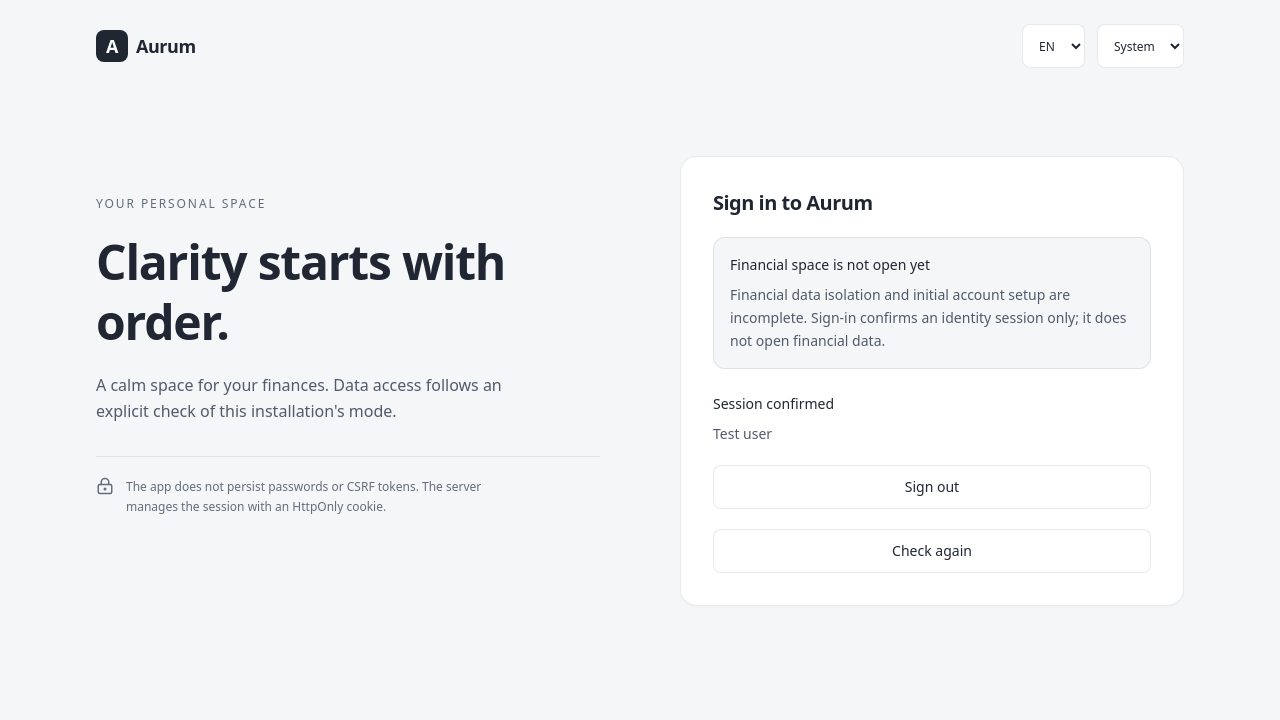
Scenario: does not claim logout when readback finds the session still active
Click the button "Sign out": (932, 487) [713,465,1151,509]
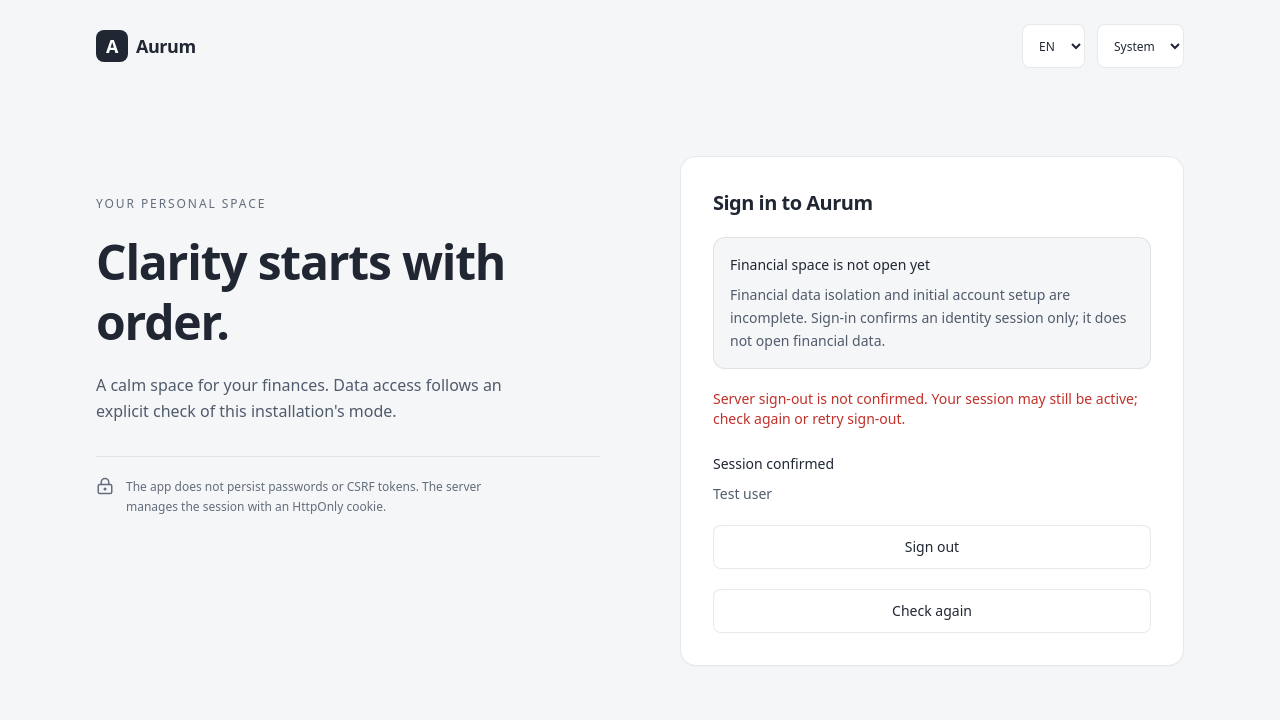
Check: the text "Server sign-out is not confirmed" is shown, box [713,389,1138,428]
